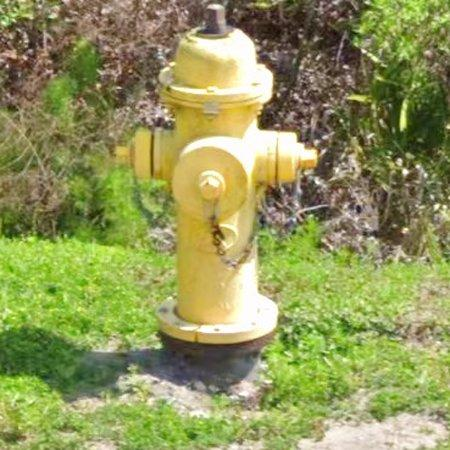a fire hydrant: (131, 4, 319, 345)
